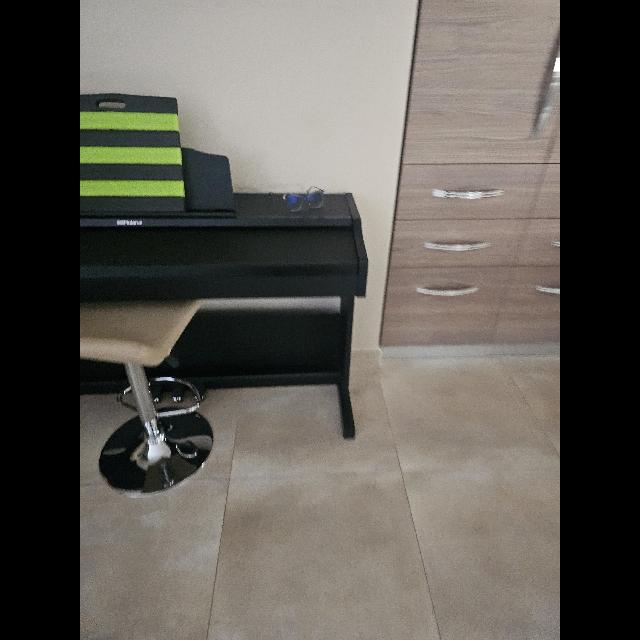glasses: (283, 186, 325, 212)
